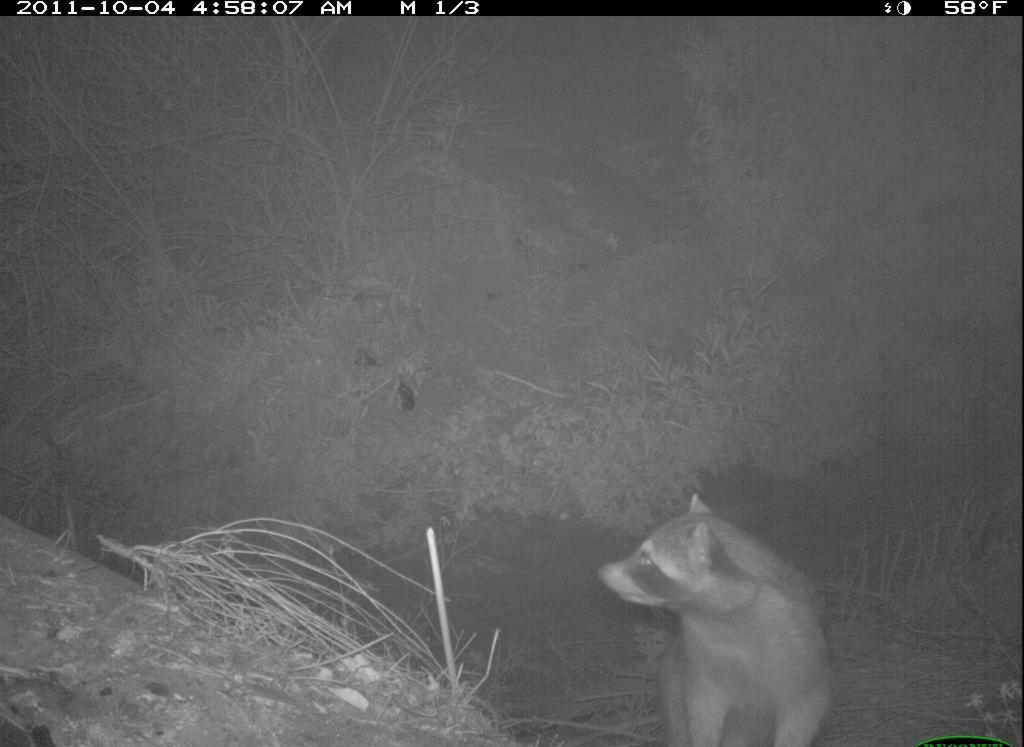raccoon: (583, 487, 849, 747)
